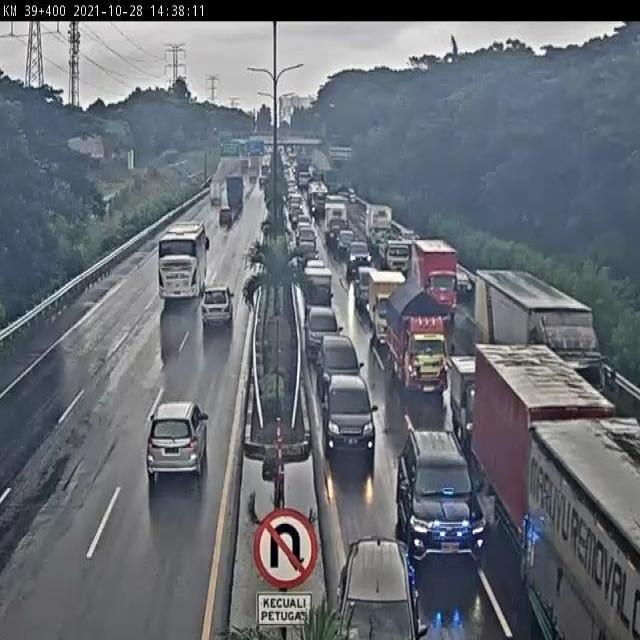big truck: (472, 341, 617, 616), (533, 421, 640, 640), (480, 265, 619, 403), (387, 280, 454, 396), (155, 219, 213, 305)
car: (392, 421, 491, 576), (329, 525, 415, 640), (136, 393, 213, 500), (322, 377, 380, 467), (322, 332, 364, 416), (305, 304, 347, 361), (200, 284, 239, 333), (308, 267, 332, 309)
